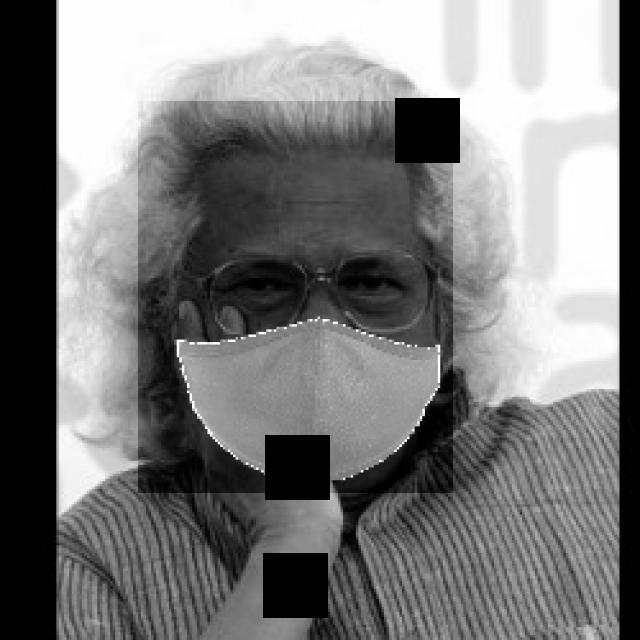cloth: (138, 102, 453, 494)
